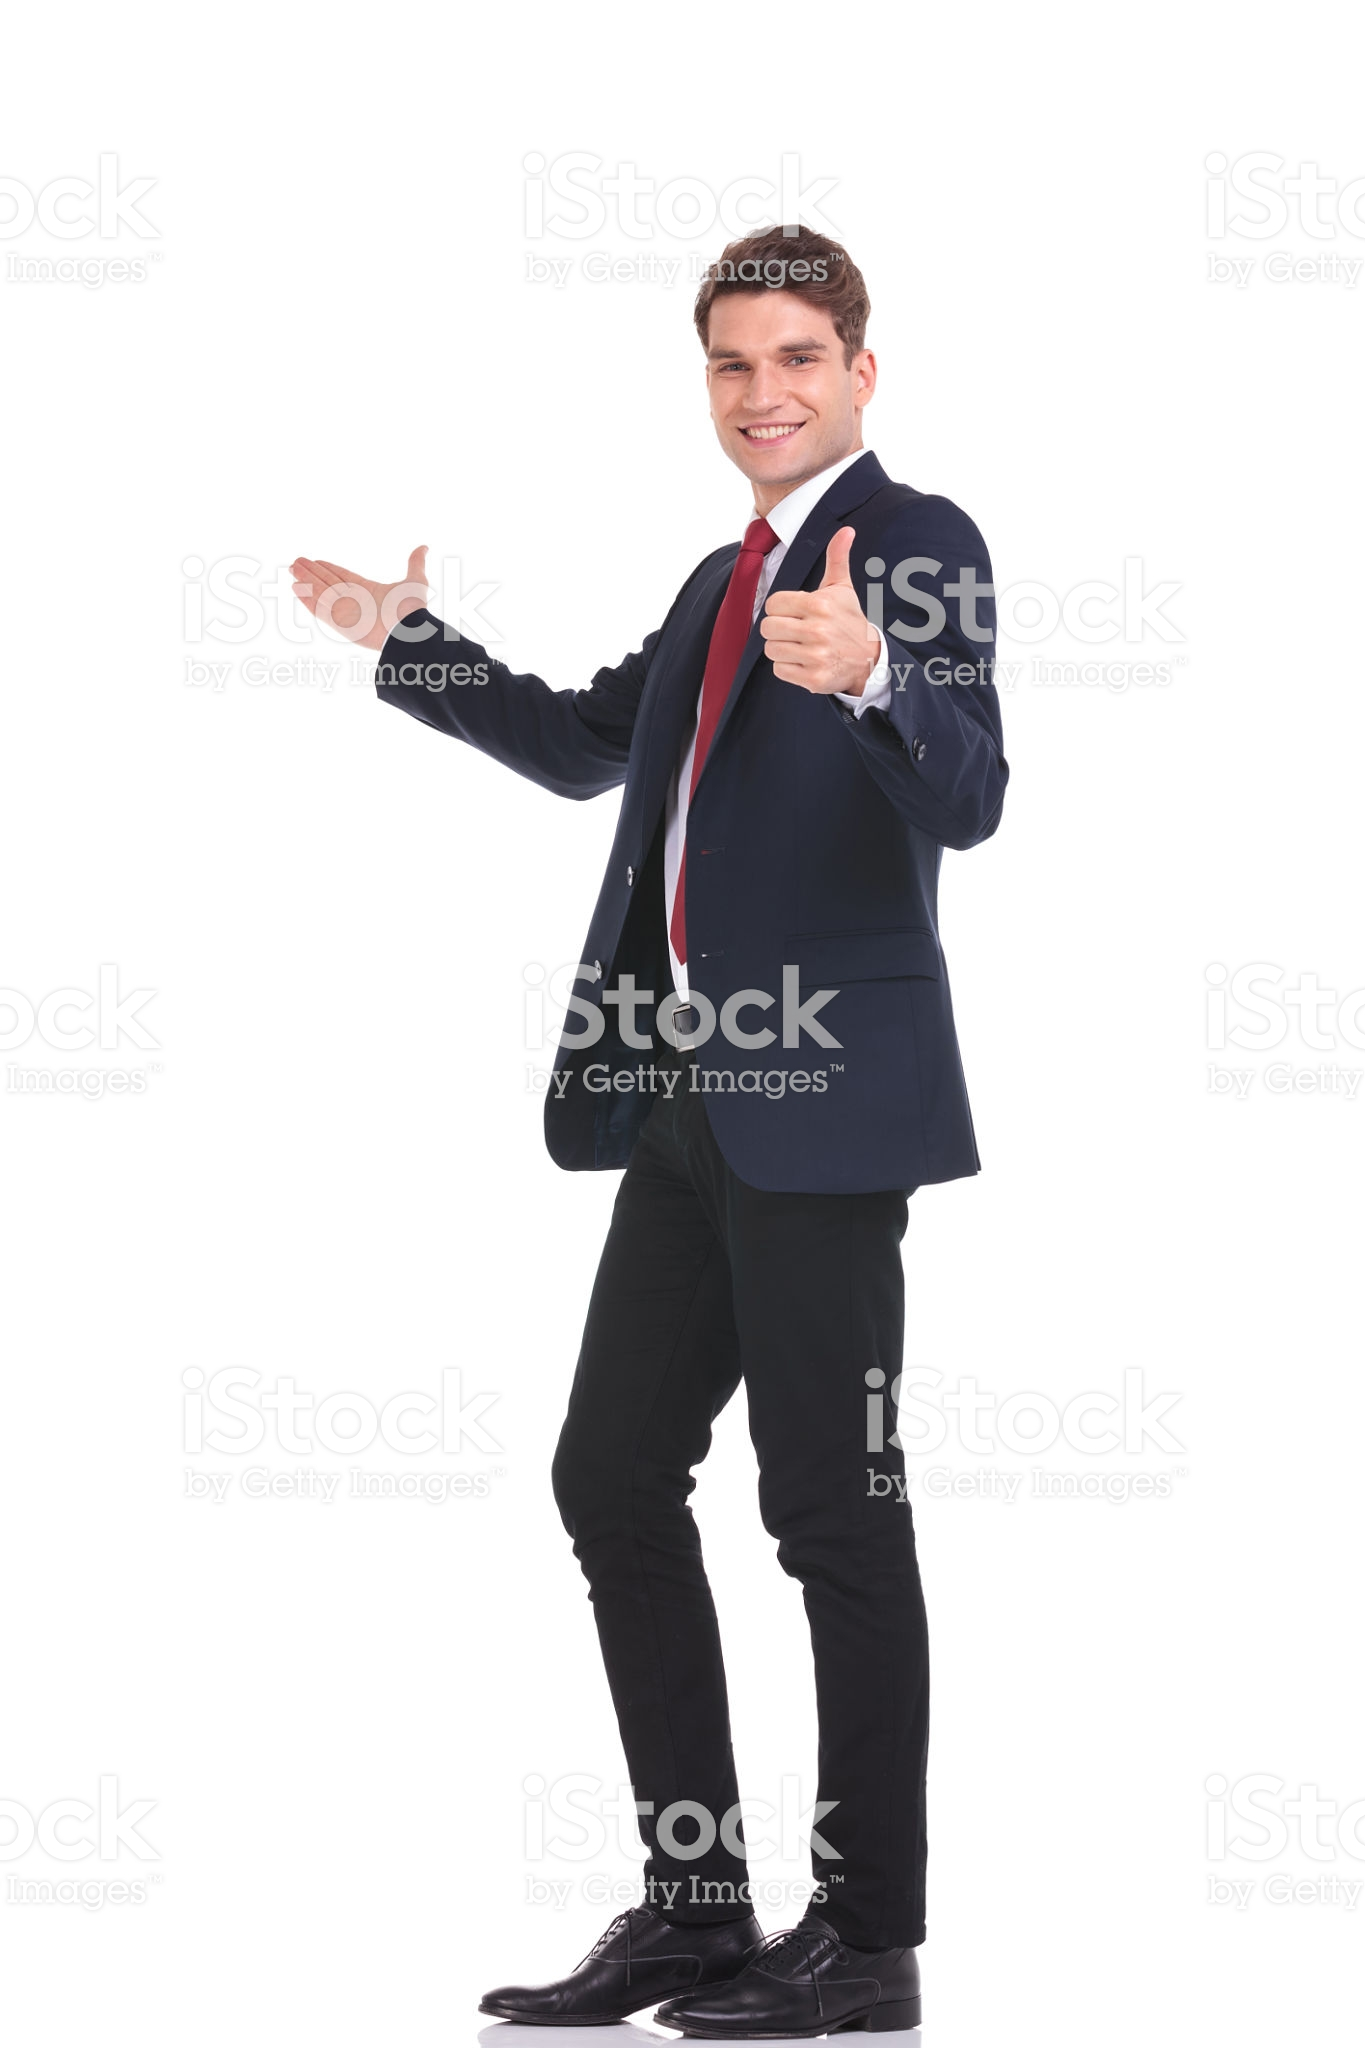thumbsup: (759, 522, 861, 694)
